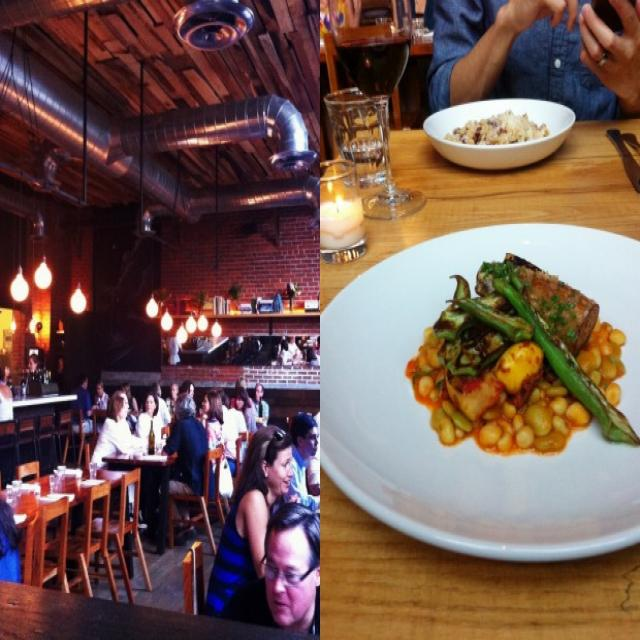chair: (323, 24, 403, 130), (169, 444, 226, 557), (70, 483, 121, 603), (111, 468, 152, 604), (32, 496, 72, 593), (181, 539, 205, 615), (232, 432, 256, 494), (37, 414, 58, 477), (53, 409, 77, 464), (17, 417, 38, 465), (0, 423, 17, 466)
dining table: (321, 116, 640, 631), (0, 580, 315, 640), (99, 447, 179, 556), (1, 466, 132, 525)
